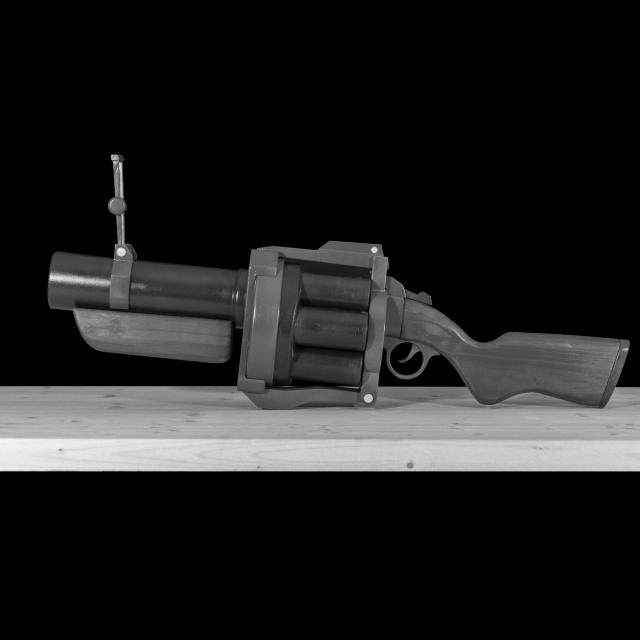Lancher: (37, 142, 612, 477)
